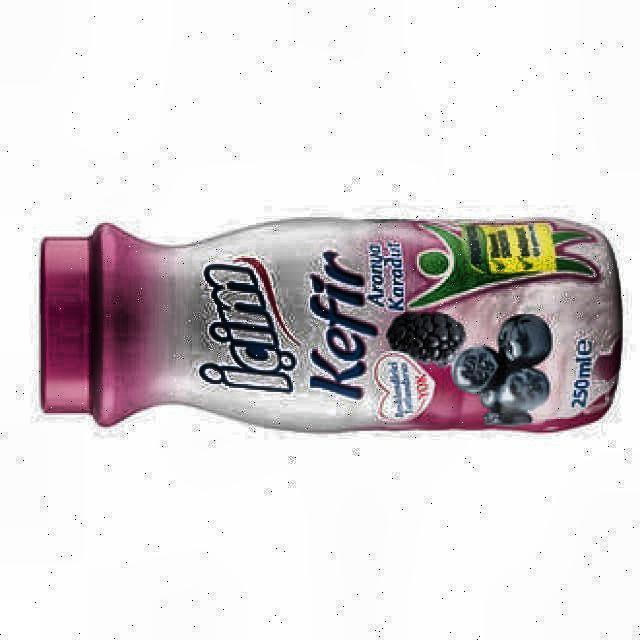plastic: (41, 220, 621, 431)
